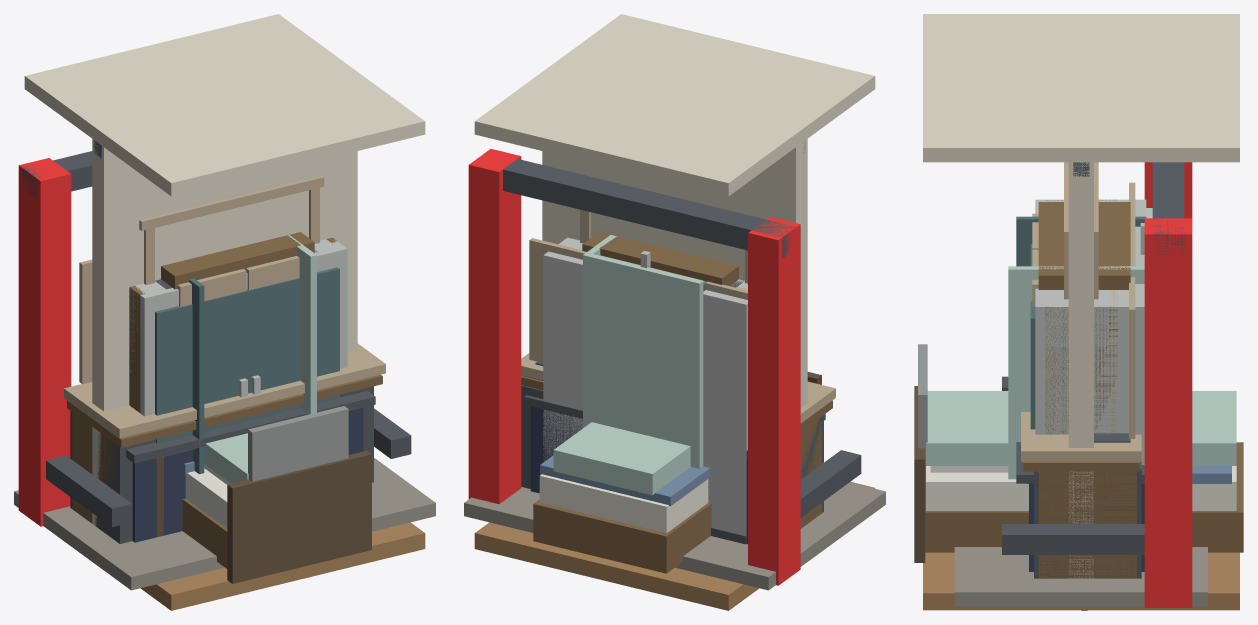
The model's file is interior_kit.glb.
The picture shows the model from 3 angles, left to right: view 1: azimuth 30°, elevation 25°; view 2: azimuth 150°, elevation 25°; view 3: azimuth 270°, elevation 25°; orthographic projection. The views are drawn at different scales.
Visible parts, largest first — view 1: KitCeiling, KitCarLift, KitWall, KitFridge, KitBed, KitWallDoor, KitToolBench, KitCounter, KitFlightDesk, KitClinicBed, KitWallWindow, KitWardrobe (+4 smaller); view 2: KitCarLift, KitCeiling, KitShower, KitFridge, KitBed, KitWall, KitFloor, KitClinicBed, KitToolBench, KitWallDoor, KitWardrobe, KitFlightDesk (+2 smaller); view 3: KitCeiling, KitCarLift, KitBed, KitFridge, KitClinicBed, KitCounter, KitWall, KitShower, KitWardrobe, KitToolBench, KitFloor, KitShelf (+2 smaller).
Boxes of the visible parts, <box> form: KitCeiling: <box>24,14,425,196</box>; KitCarLift: <box>14,151,435,590</box>; KitWall: <box>92,139,357,525</box>; KitFridge: <box>129,239,347,443</box>; KitBed: <box>182,450,371,583</box>; KitWallDoor: <box>104,149,357,410</box>; KitToolBench: <box>67,259,382,543</box>; KitCounter: <box>64,343,385,527</box>; KitFlightDesk: <box>126,391,375,542</box>; KitClinicBed: <box>204,406,348,484</box>; KitWallWindow: <box>104,149,357,410</box>; KitWardrobe: <box>161,232,314,397</box>; KitCarLift: <box>464,149,885,590</box>; KitCeiling: <box>474,14,875,196</box>; KitShower: <box>583,235,707,468</box>; KitFridge: <box>543,237,747,544</box>; KitBed: <box>533,372,821,573</box>; KitWall: <box>542,139,807,407</box>; KitFloor: <box>474,481,875,610</box>; KitClinicBed: <box>553,422,690,495</box>; KitToolBench: <box>521,238,832,524</box>; KitWallDoor: <box>542,148,795,283</box>; KitWardrobe: <box>582,232,738,285</box>; KitFlightDesk: <box>524,361,825,544</box>; KitCeiling: <box>923,14,1239,162</box>; KitCarLift: <box>954,162,1207,607</box>; KitBed: <box>914,386,1243,562</box>; KitFridge: <box>1030,199,1146,464</box>; KitClinicBed: <box>918,344,1236,472</box>; KitCounter: <box>1021,412,1141,578</box>; KitWall: <box>1068,162,1093,578</box>; KitShower: <box>1008,208,1152,479</box>; KitWardrobe: <box>1032,202,1130,305</box>; KitToolBench: <box>1022,182,1141,578</box>; KitFloor: <box>923,552,1239,610</box>; KitShelf: <box>1045,199,1118,434</box>.
Bounding box in the file's own units: 2.44 × 3.35 × 2.08.
